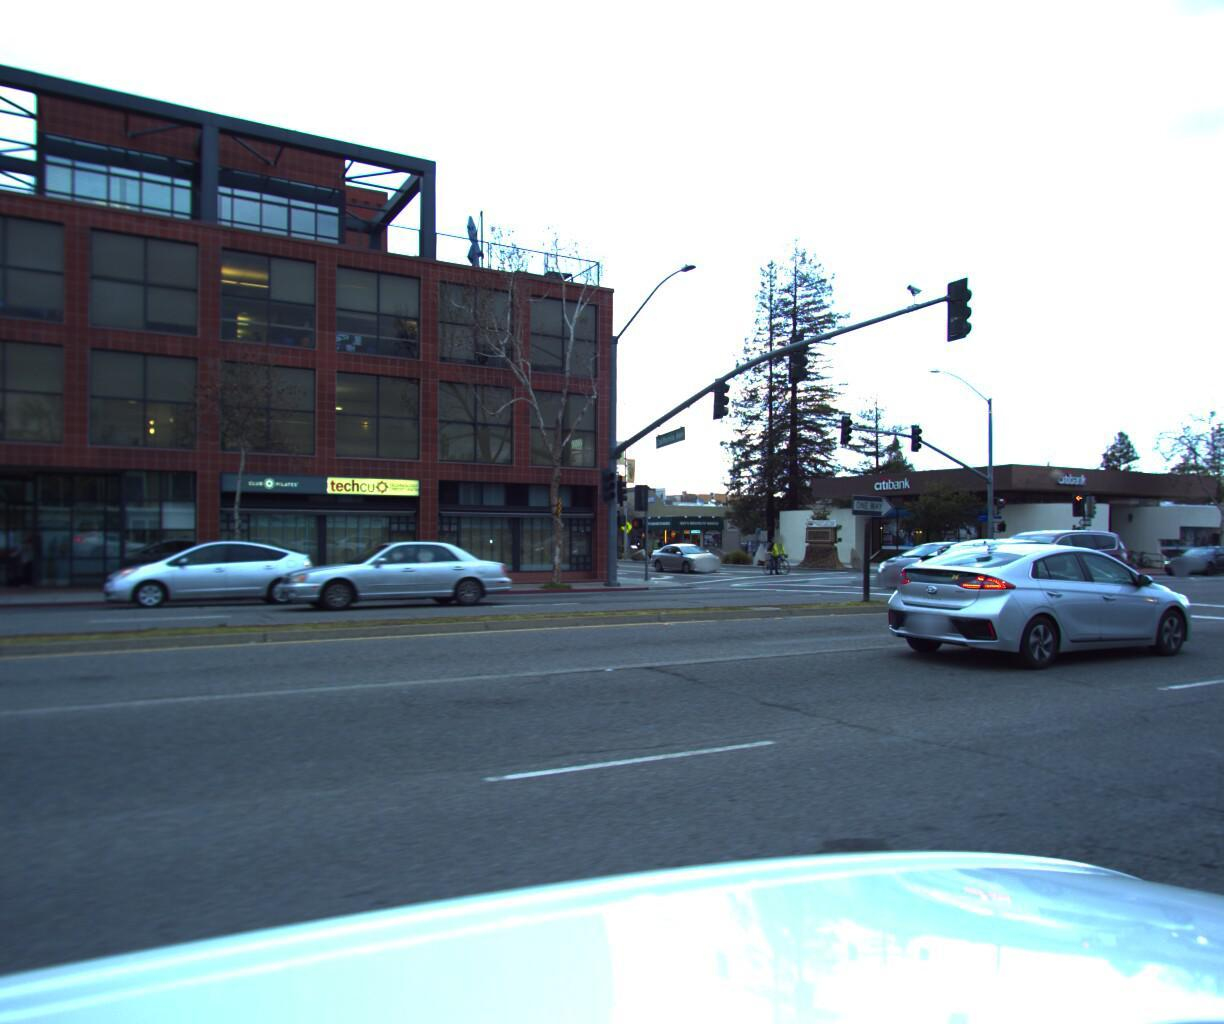car: (873, 535, 1213, 675), (895, 529, 1131, 624), (267, 540, 513, 613), (102, 538, 320, 610), (959, 524, 1137, 594), (870, 538, 1002, 585), (644, 537, 727, 571), (1159, 538, 1224, 569)
